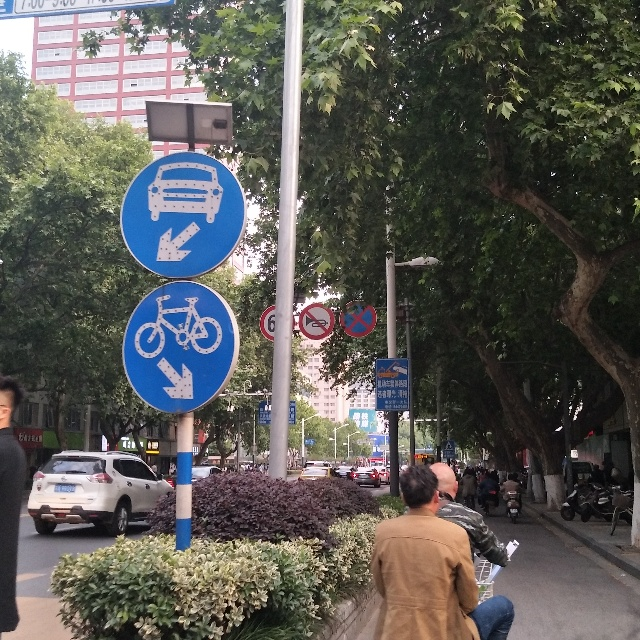crosswalk: (440, 438, 457, 462)
nohonk: (300, 302, 338, 342)
stop: (342, 299, 381, 339)
